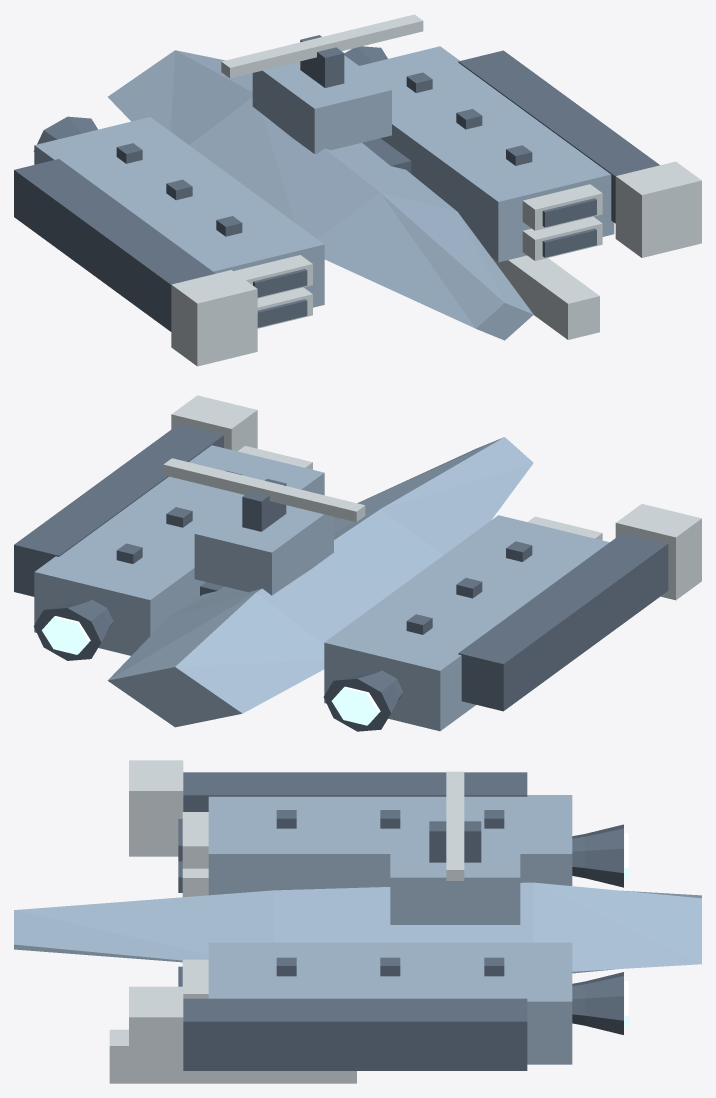
3 views of the same model, one above another, from view 1: azimuth 30°, elevation 25°; view 2: azimuth 150°, elevation 25°; view 3: azimuth 270°, elevation 25° (orthographic). The views are drawn at different scales.
Bounding box in the file's own units: 13.42 × 5.01 × 15.2.
